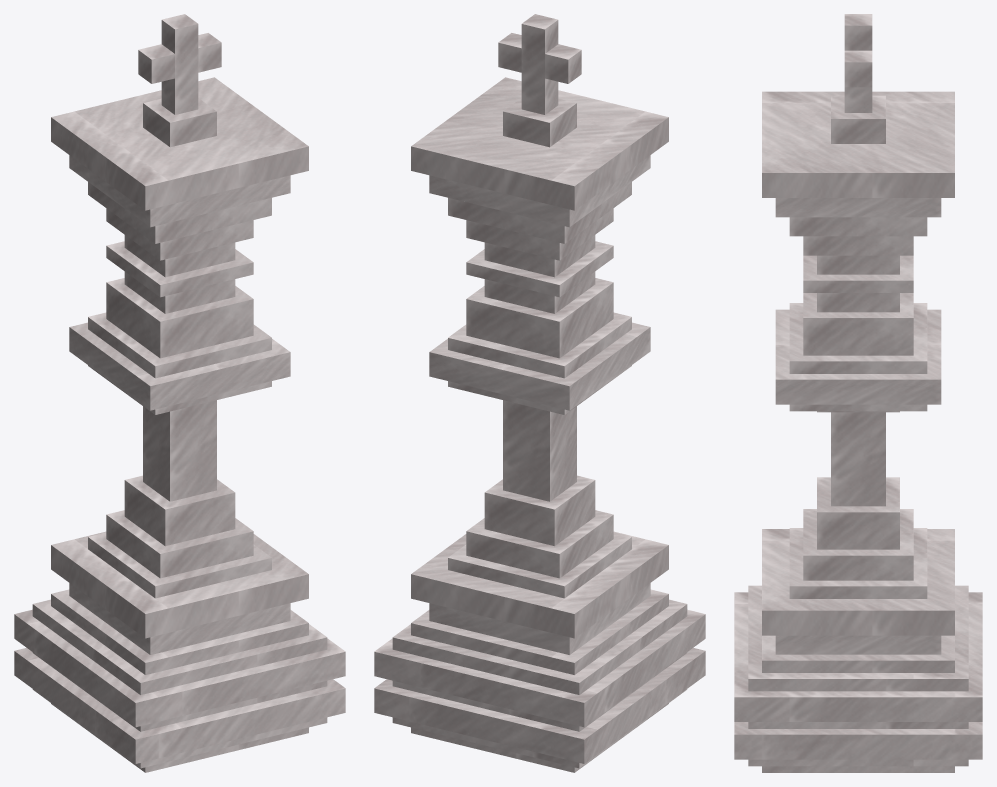
The model's file is Roi.fbx.
3 renders of one model, left to right at view 1: azimuth 30°, elevation 25°; view 2: azimuth 150°, elevation 25°; view 3: azimuth 270°, elevation 25°, orthographic. The views are drawn at different scales.
Visible parts, largest first — view 1: cube; view 2: cube; view 3: cube.
Boxes of the visible parts, bbox=[...] form: cube: bbox=[14, 14, 345, 772]; cube: bbox=[374, 14, 705, 772]; cube: bbox=[734, 14, 982, 772].
Size of the model in its own units: 112 by 356 by 112.
1 material, 1 textured.
